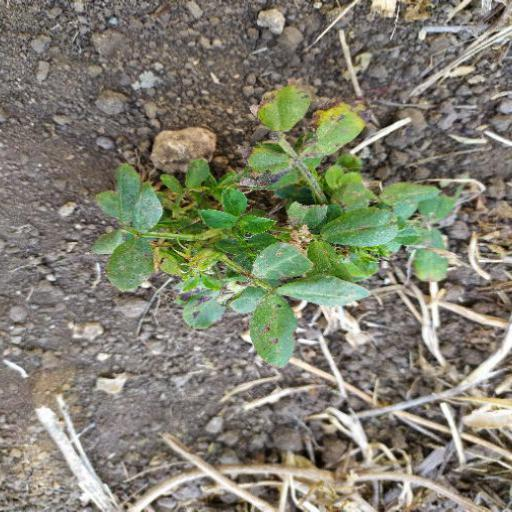weed: (77, 85, 484, 357)
